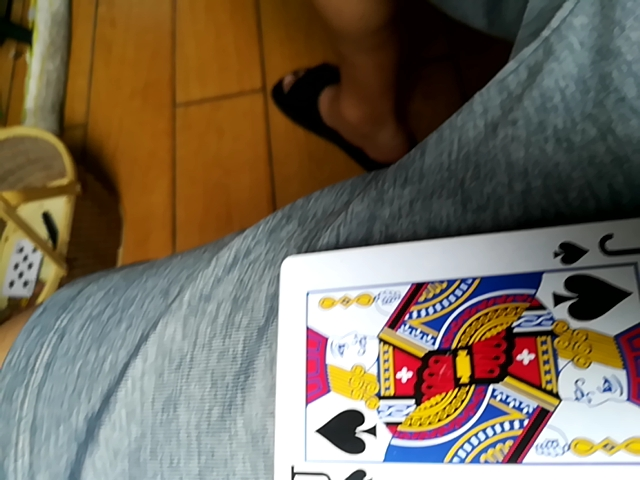ht j: (272, 213, 640, 480)
